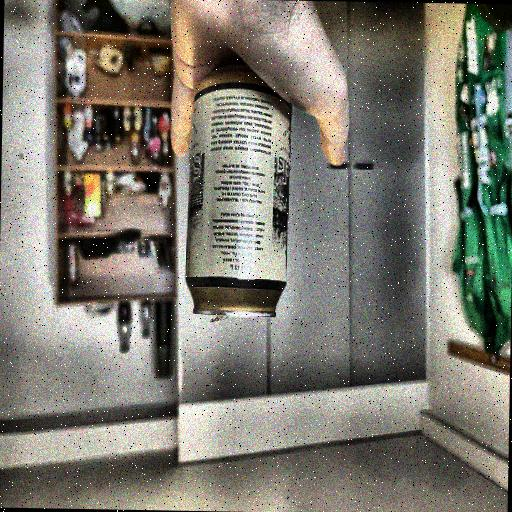sandels: (183, 65, 298, 330)
